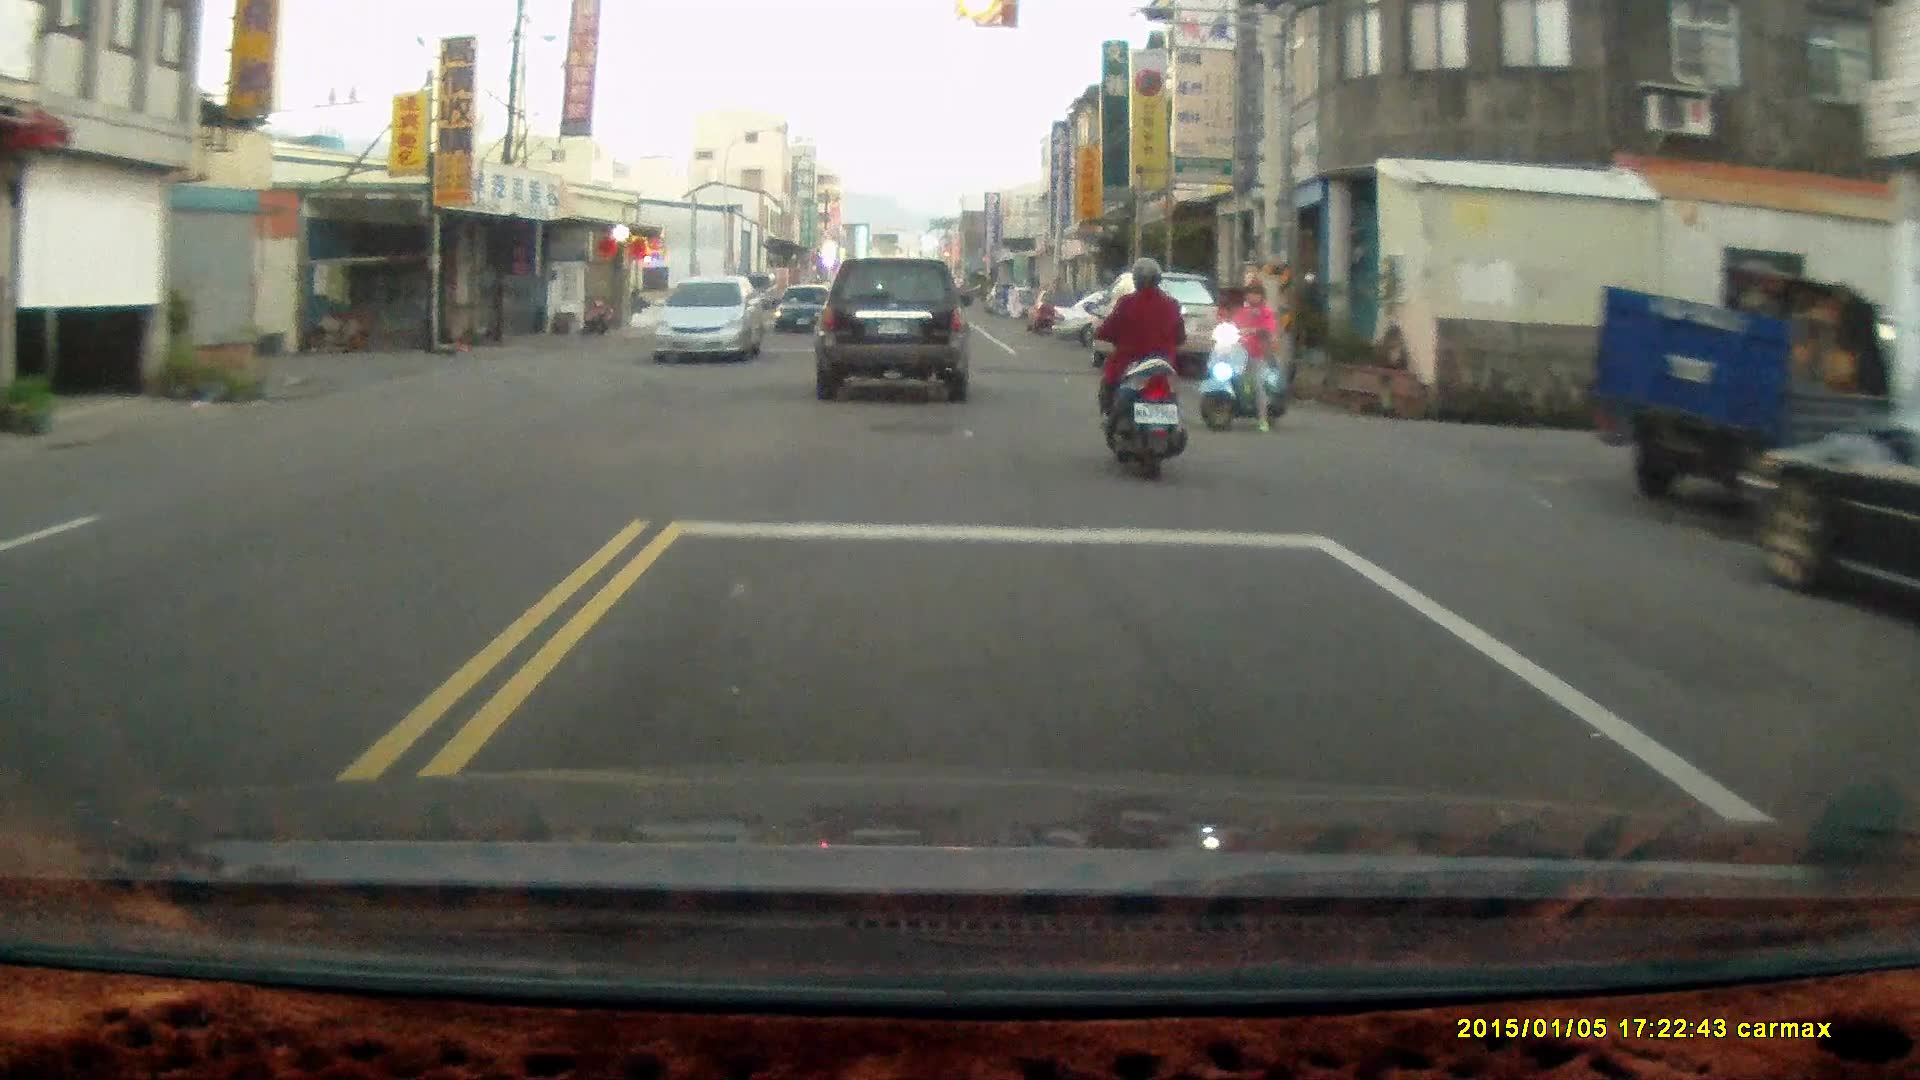rider: (1098, 253, 1185, 486), (1199, 269, 1290, 433)
vehicle: (1584, 253, 1920, 526), (1747, 363, 1920, 630), (814, 252, 979, 403), (1095, 270, 1233, 376), (646, 275, 770, 363)
